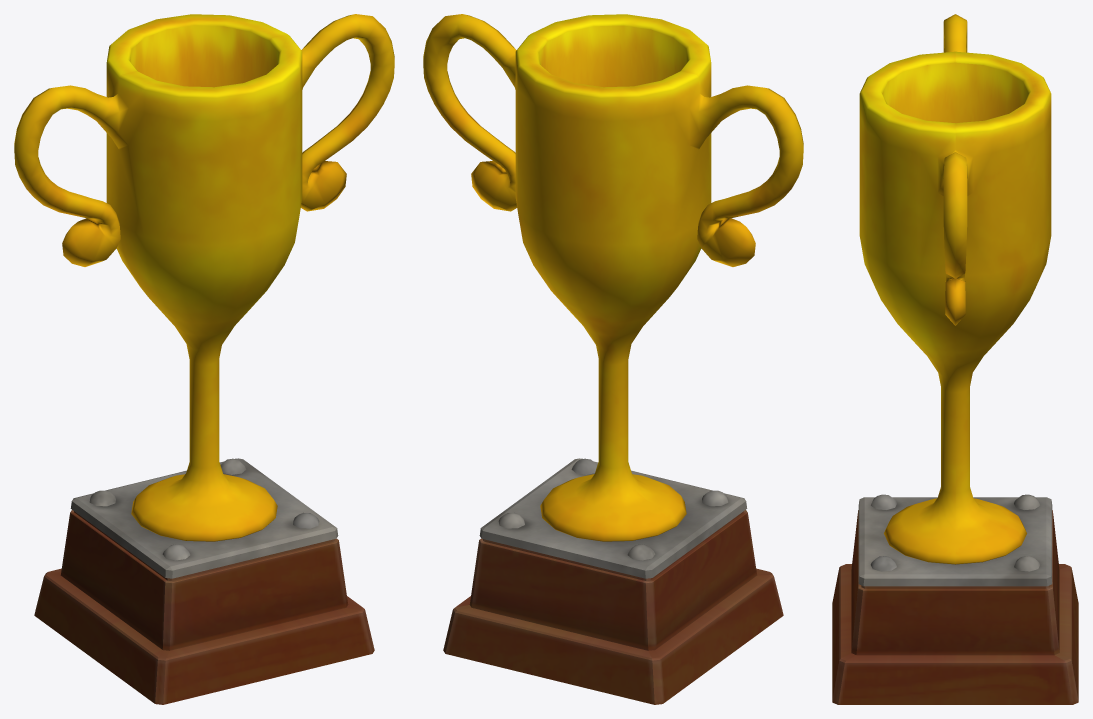
File: sb_obj_indoor014_Trophy01.fbx
3 renders of one model, left to right at view 1: azimuth 30°, elevation 25°; view 2: azimuth 150°, elevation 25°; view 3: azimuth 270°, elevation 25°, orthographic. The views are drawn at different scales.
Parts seen in each view (by area): view 1: sb_obj_indoor014_Trophy01; view 2: sb_obj_indoor014_Trophy01; view 3: sb_obj_indoor014_Trophy01.
Boxes of the visible parts, x1,y1,x2,y2 form: sb_obj_indoor014_Trophy01: (14, 14, 394, 704); sb_obj_indoor014_Trophy01: (423, 14, 803, 704); sb_obj_indoor014_Trophy01: (832, 14, 1078, 704).
Size of the model in its own units: 0.2909 by 0.4253 by 0.168.
